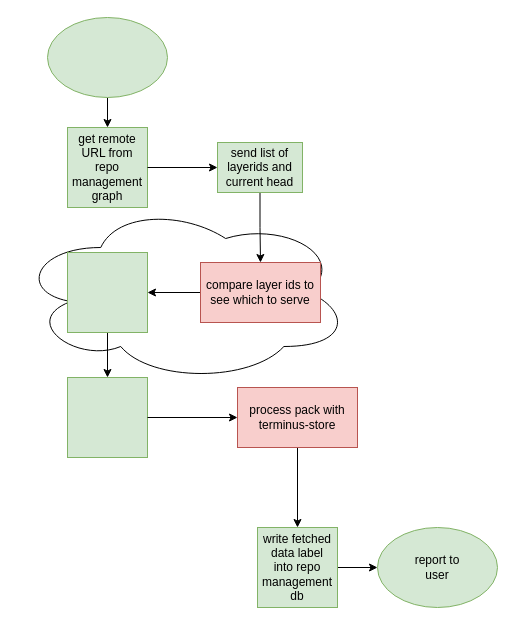
The diagram is 515 pixels wide and 625 high, and some of its shapes have lost their labels. The shapes that lost their labels are listed below. From the top down, each one's centre as x and y in pixels, then its label:
At pixel 107 57: "get fetch request with remote and remote branch".
At pixel 107 292: "serve layerids".
At pixel 107 417: "d/l difference".
